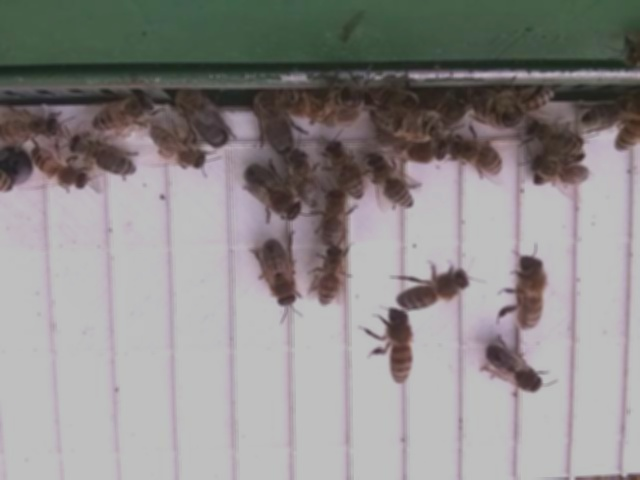Drone: (240, 157, 304, 226), (175, 89, 231, 151), (483, 341, 546, 396), (260, 239, 303, 312), (252, 91, 298, 157)
Worker: (360, 151, 421, 216), (62, 131, 141, 181), (28, 142, 98, 197), (395, 269, 474, 311), (374, 106, 448, 149), (148, 124, 210, 172), (89, 93, 155, 138), (513, 254, 550, 333), (278, 150, 325, 210), (468, 85, 528, 132), (318, 72, 367, 127), (324, 137, 366, 200), (451, 135, 506, 183), (520, 116, 585, 156), (382, 308, 414, 388), (315, 245, 350, 312), (528, 153, 592, 188), (1, 107, 66, 141), (318, 189, 352, 252)
